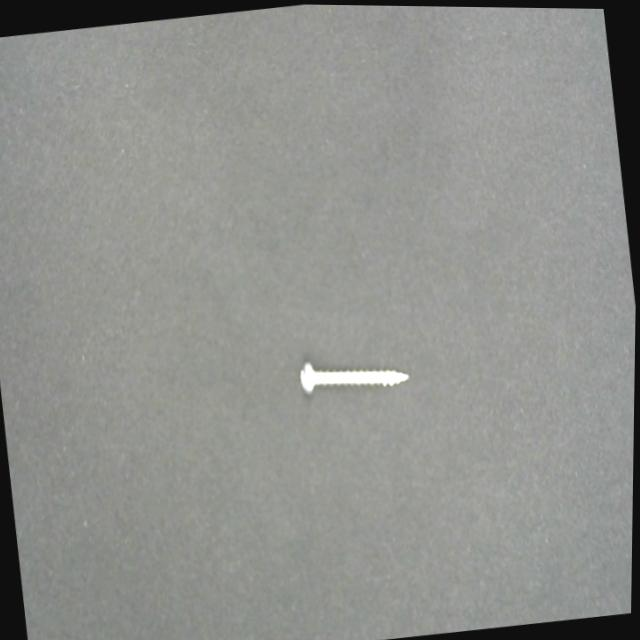SheetMetalScrew: (298, 347, 413, 397)
